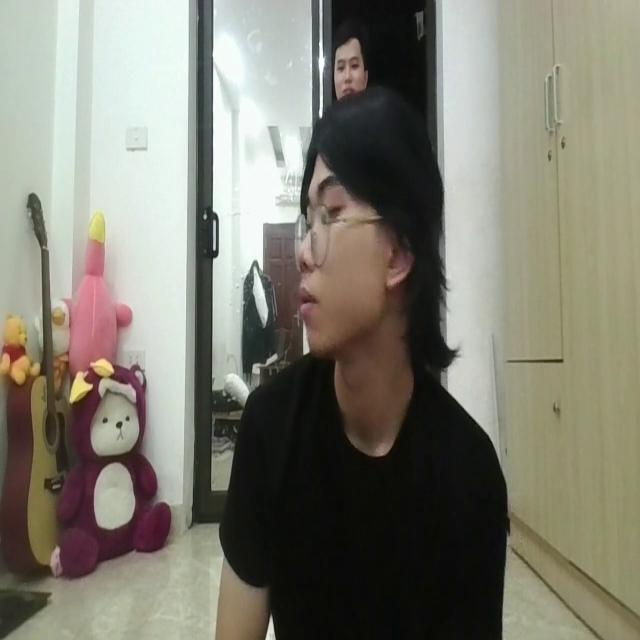student: (200, 84, 510, 640)
